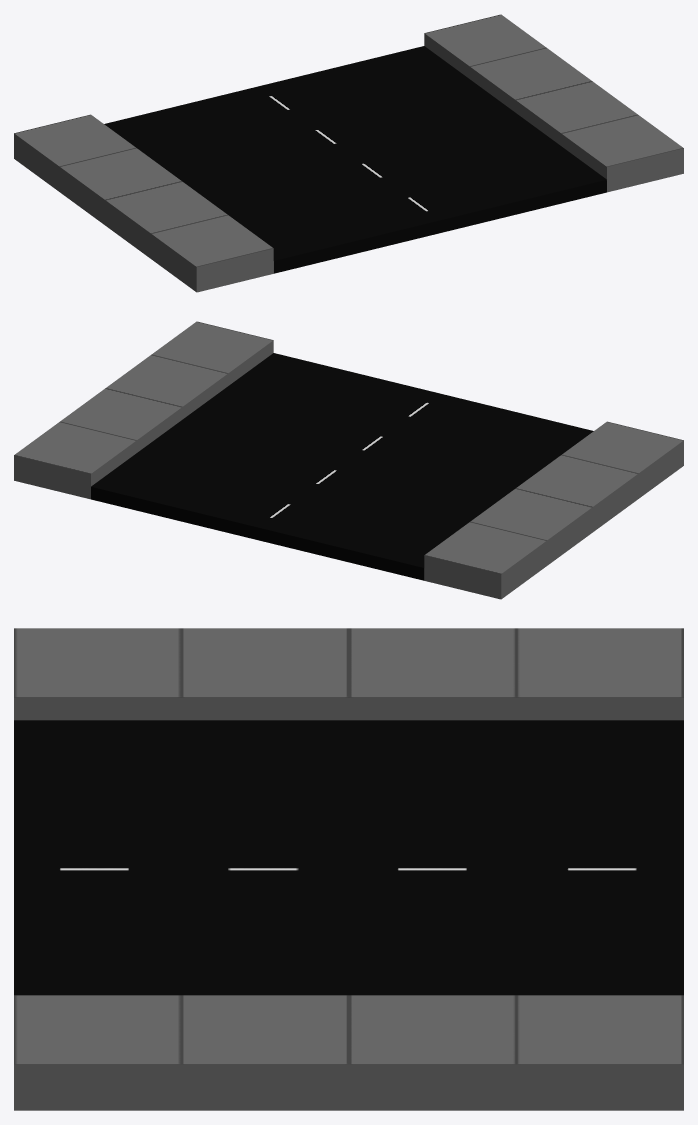
The model's file is Modular Road Straight.fbx.
3 views of the same model, one above another, from view 1: azimuth 30°, elevation 25°; view 2: azimuth 150°, elevation 25°; view 3: azimuth 270°, elevation 25° (orthographic). The views are drawn at different scales.
Visible parts, largest first — view 1: Modular Road Straight; view 2: Modular Road Straight; view 3: Modular Road Straight.
Part boxes in pixels (x1=…): Modular Road Straight: x1=14, y1=14, x2=683, y2=292; Modular Road Straight: x1=14, y1=321, x2=683, y2=599; Modular Road Straight: x1=14, y1=628, x2=683, y2=1110.
Size of the model in its own units: 20 by 13 by 1.
Materials: 3 (3 with a texture image).
